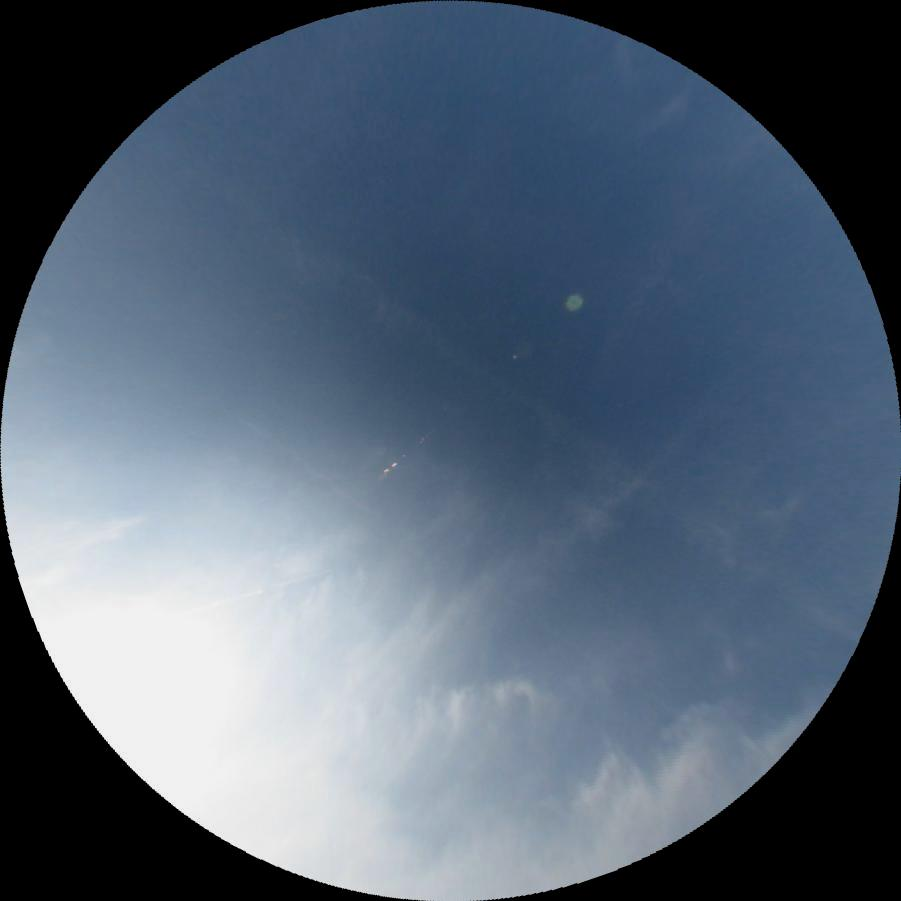contrail old: (238, 413, 388, 523)
contrail veryold: (211, 171, 864, 668)
parasite: (172, 565, 339, 620)
